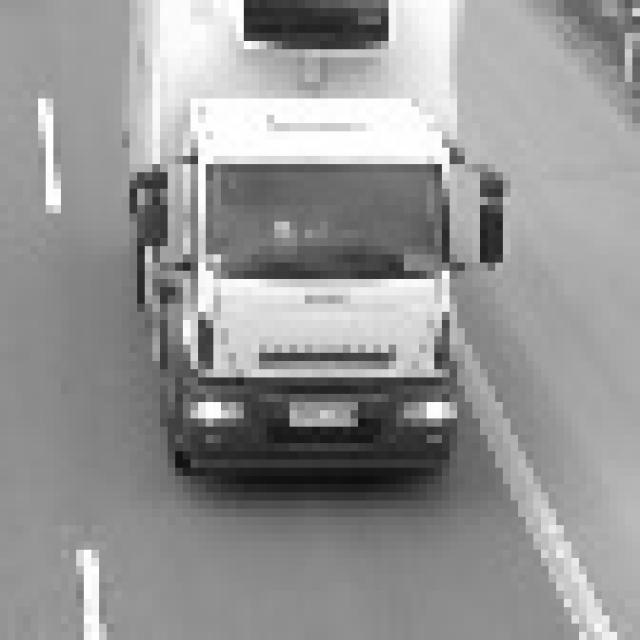truck: (119, 79, 497, 477)
